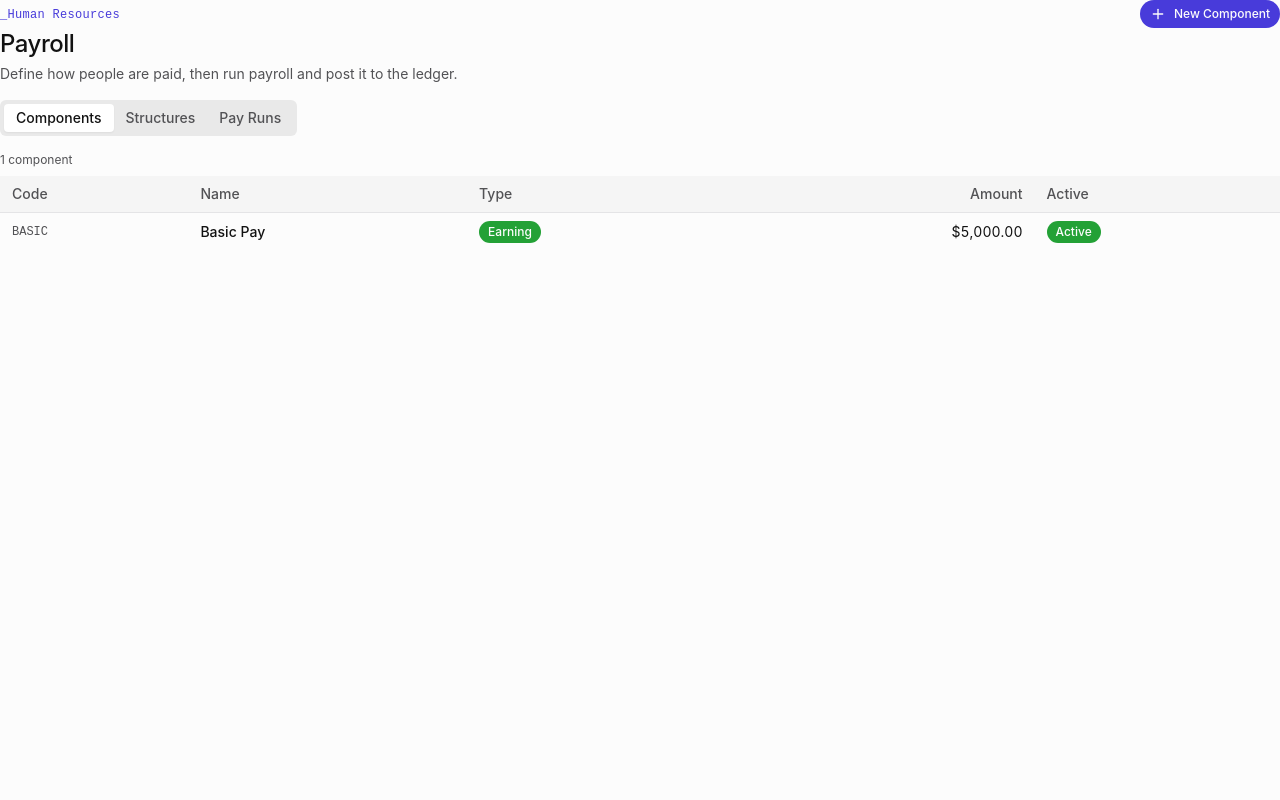
Test: PayrollPage › surfaces a post failure inline
Click the tab "Pay Runs" at x=250, y=118, box x1=207 y1=104 x2=293 y2=132
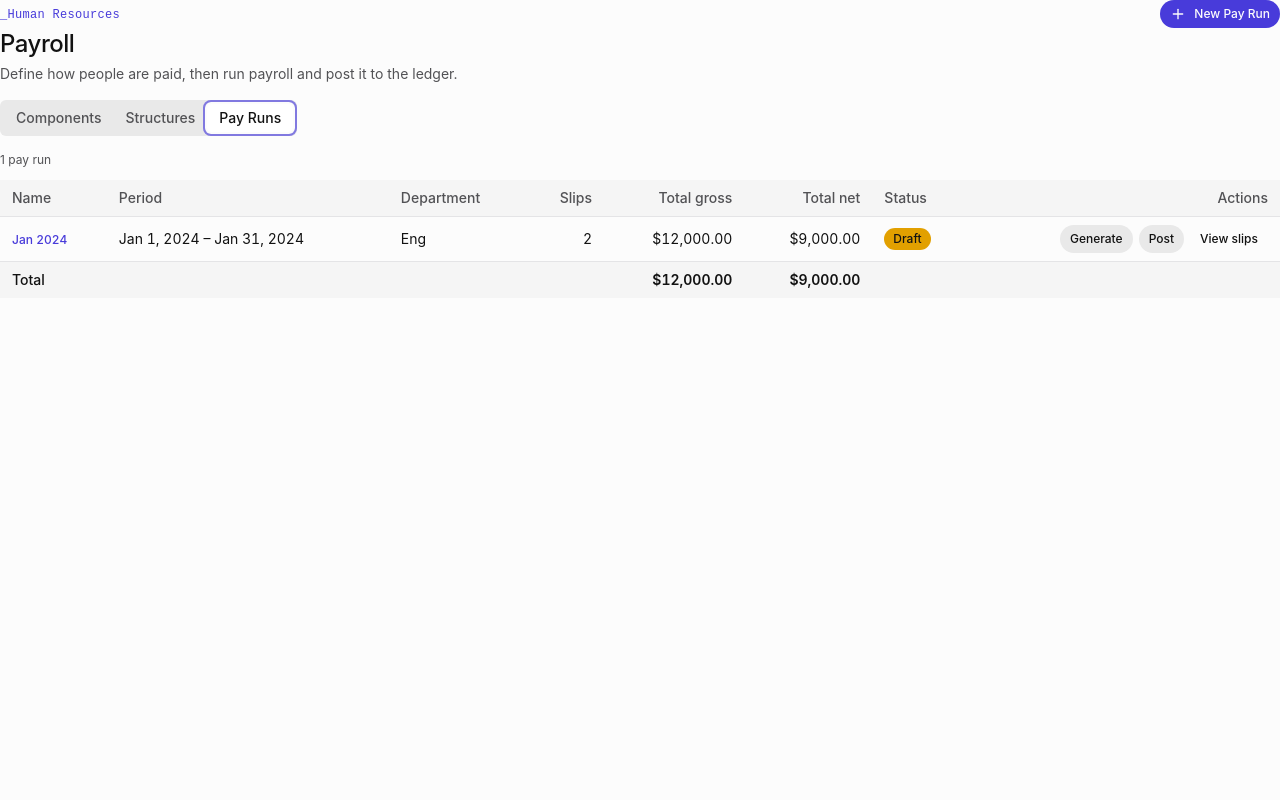
Expected: the button "Jan 2024" is shown, x1=12 y1=232 x2=67 y2=248
Note: Posting is irreversible, so it's gated behind a confirmation dialog.
Click the button "Post" at x=1161, y=238, box x1=1139 y1=224 x2=1184 y2=252
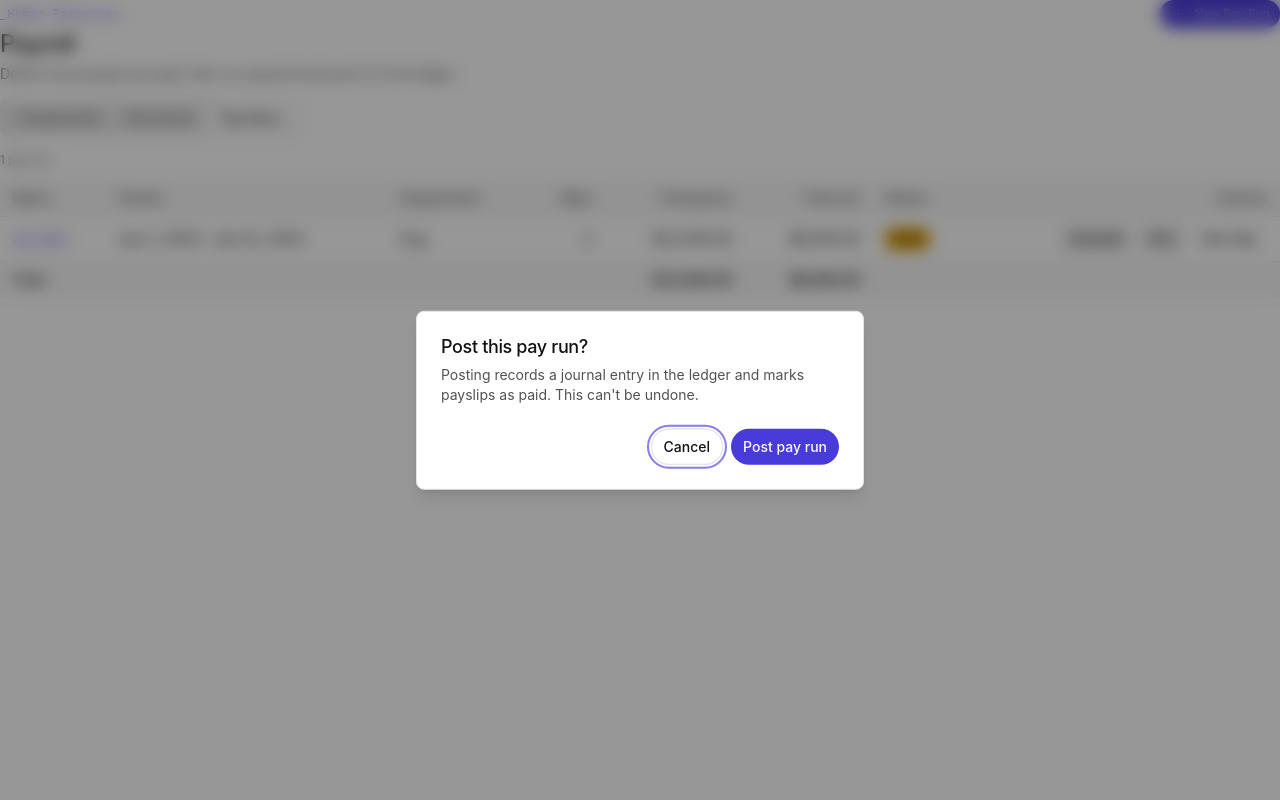
Click the button "Post pay run" at x=785, y=446, box x1=731 y1=428 x2=839 y2=464
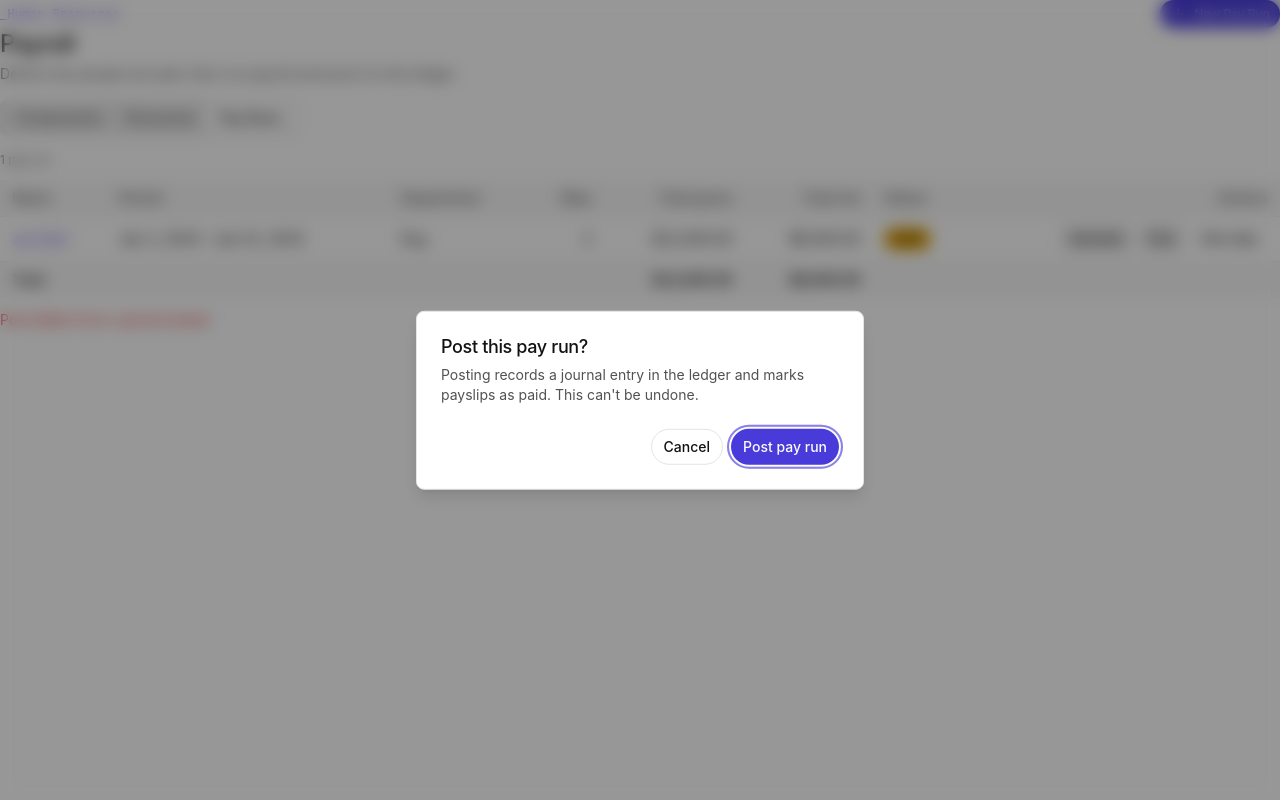
Expected: the text "Post failed: Error: period locked" is shown, x1=0 y1=310 x2=208 y2=328
